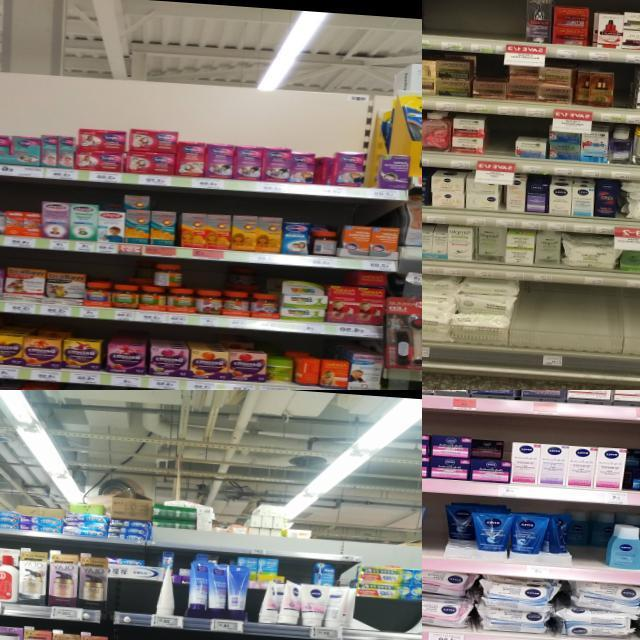Imprecise: (563, 508, 618, 562), (436, 492, 474, 558), (466, 436, 513, 487), (472, 222, 504, 263)
